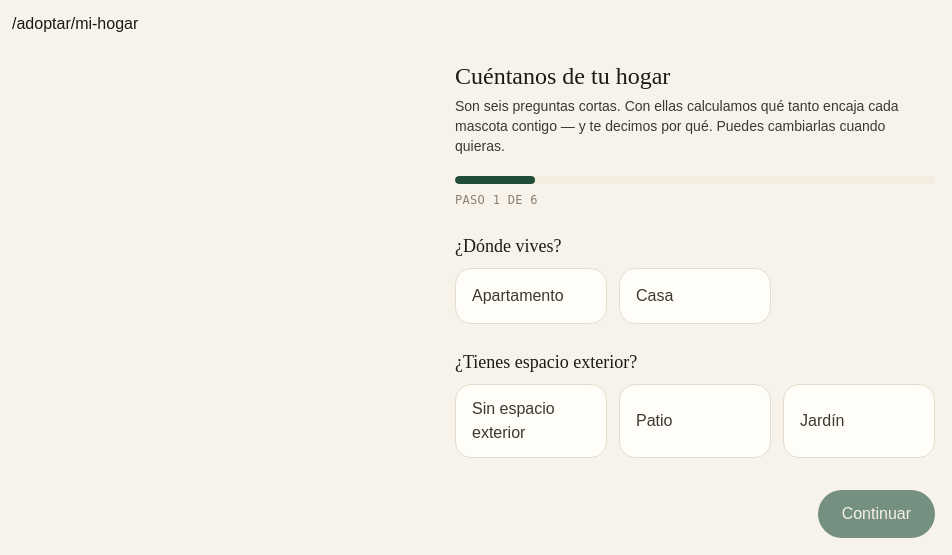
it: CuestionarioHogar › habilita "Continuar" solo cuando el paso está contestado entero
Check: the text "Paso 1 de 6" is shown, box [455,193,538,207]
Click the button "Apartamento": (531, 296) [455,268,607,324]
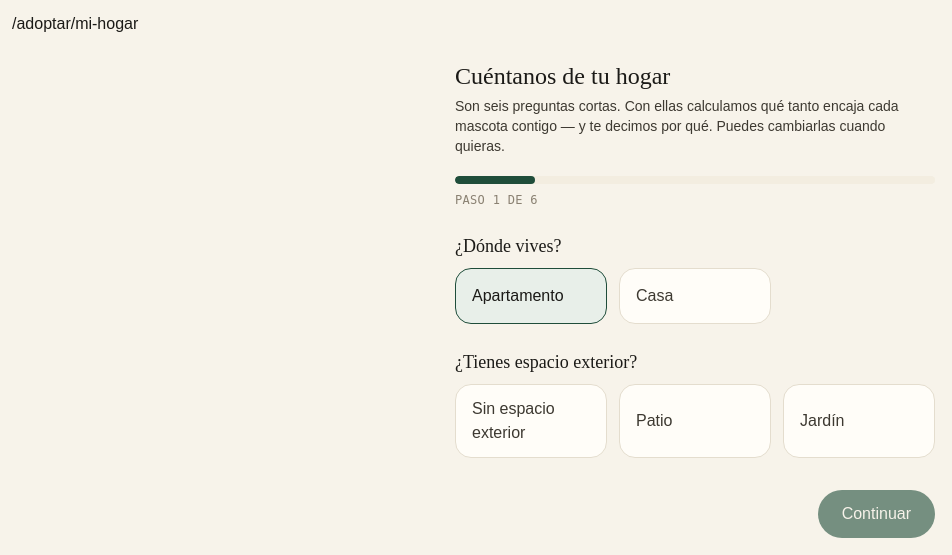
Check: the button "Continuar" is disabled, box [818,490,935,538]
Click the button "Sin espacio exterior": (531, 421) [455,384,607,458]
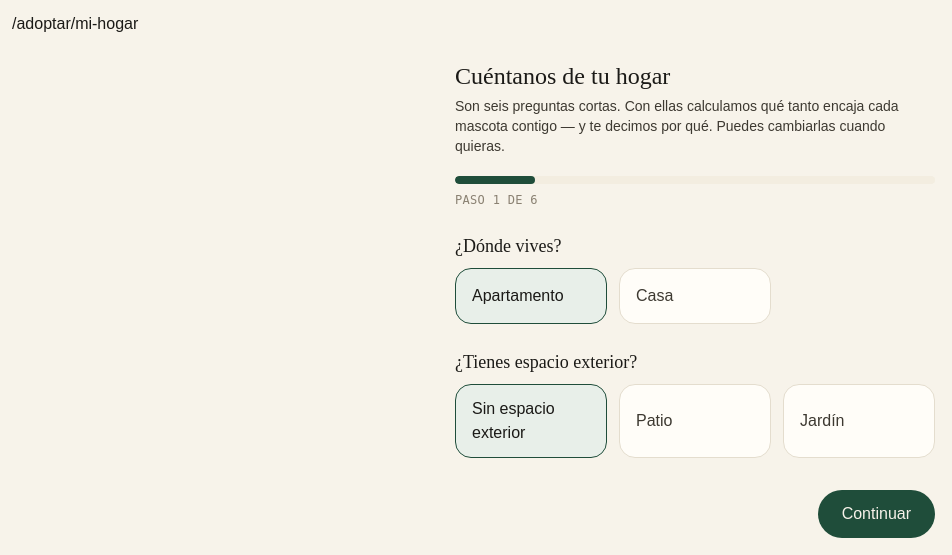
Check: the button "Continuar" is enabled
Click the button "Continuar": (876, 514) [818,490,935,538]
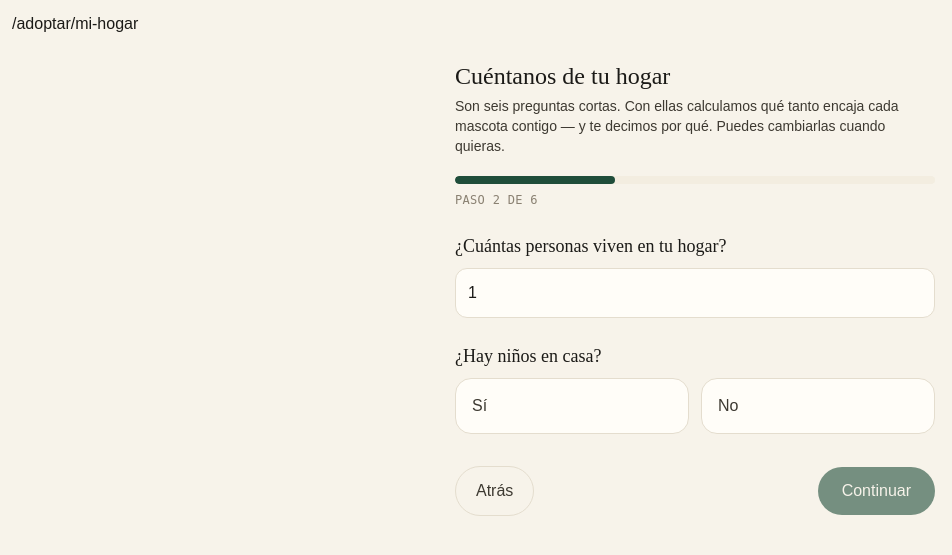
Check: the text "Paso 2 de 6" is shown, box [455,193,538,207]
Check: the button "Atrás" is shown, box [455,466,534,516]
